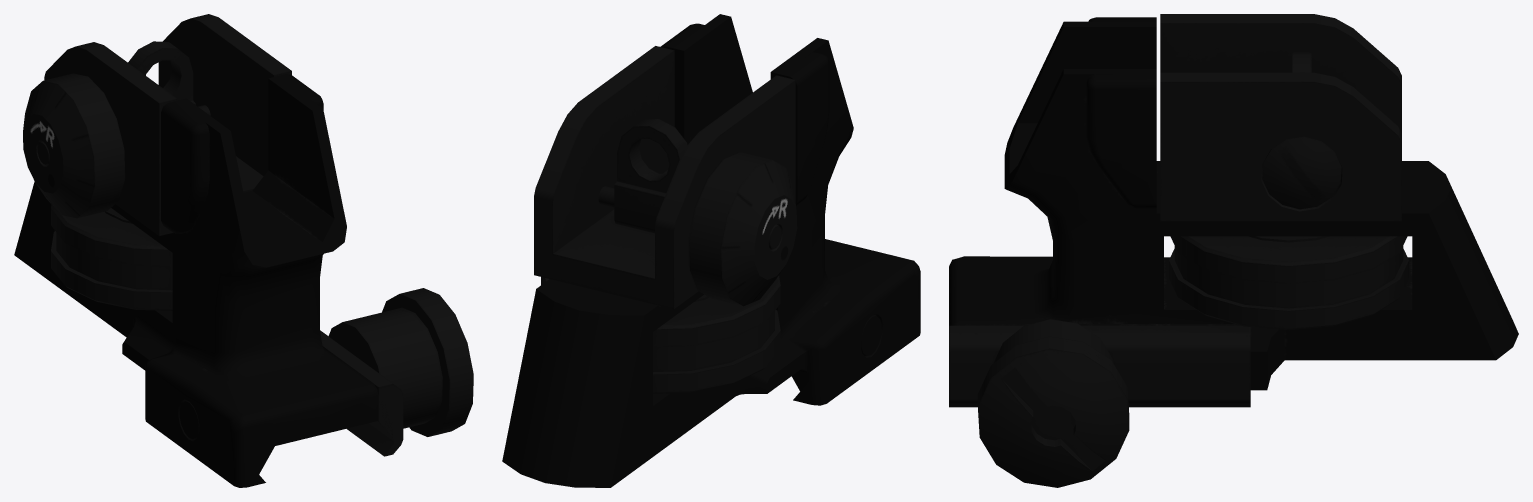
File: M4IronSight.fbx
The picture shows the model from 3 angles, left to right: view 1: azimuth 30°, elevation 25°; view 2: azimuth 150°, elevation 25°; view 3: azimuth 270°, elevation 25°; orthographic projection. The views are drawn at different scales.
Visible parts, largest first — view 1: BaseIronSight; view 2: BaseIronSight; view 3: BaseIronSight.
Boxes of the visible parts, x1,y1,x2,y2 form: BaseIronSight: (14, 14, 473, 487); BaseIronSight: (502, 14, 920, 487); BaseIronSight: (949, 14, 1518, 487).
Size of the model in its own units: 3.62 by 4.05 by 5.85.
1 material, 1 textured.
